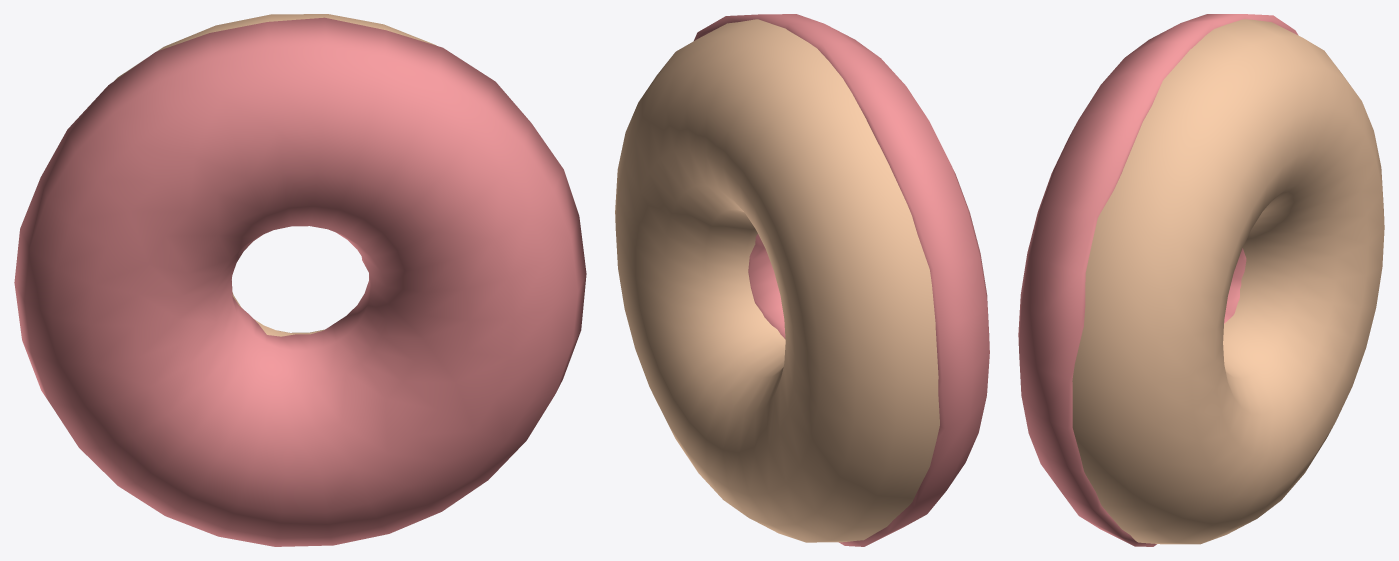
Rendered from donut (1).fbx.
3 views of the same model, side by side, from view 1: azimuth 30°, elevation 25°; view 2: azimuth 150°, elevation 25°; view 3: azimuth 270°, elevation 25° (orthographic). The views are drawn at different scales.
Parts seen in each view (by area): view 1: Donut2; view 2: Donut2; view 3: Donut2.
Part boxes in pixels (box(x1,y1,x2,y2)): Donut2: box(14, 14, 586, 546); Donut2: box(615, 14, 989, 546); Donut2: box(1018, 14, 1384, 546).
Size of the model in its own units: 1.92 by 2.09 by 1.4.
